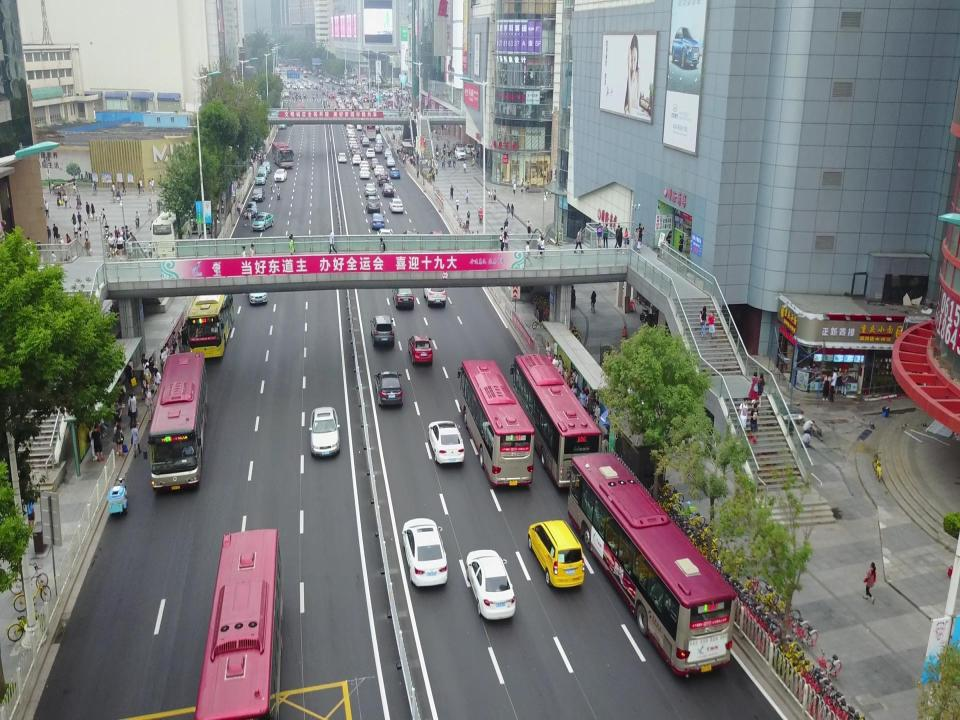bus: (568, 455, 736, 676), (195, 526, 280, 720), (510, 354, 600, 492), (457, 358, 535, 492), (146, 352, 206, 492), (185, 273, 231, 359), (270, 142, 294, 170), (361, 121, 376, 141)
car: (528, 521, 586, 588), (464, 548, 516, 621), (402, 518, 450, 589), (309, 406, 341, 460), (428, 419, 466, 464), (373, 369, 405, 409), (369, 313, 395, 351), (424, 275, 448, 309), (246, 269, 268, 306), (408, 334, 432, 366), (392, 283, 416, 311), (252, 211, 274, 233), (364, 196, 380, 214), (388, 197, 404, 214), (369, 213, 385, 230), (246, 200, 258, 219), (252, 187, 266, 203), (376, 172, 390, 187), (273, 168, 287, 182), (381, 183, 395, 197), (454, 147, 467, 160), (452, 142, 464, 156), (254, 172, 266, 185), (262, 160, 272, 175), (389, 168, 401, 180), (364, 184, 376, 196), (258, 165, 268, 179), (359, 168, 370, 180), (358, 160, 370, 171), (374, 164, 384, 176), (370, 158, 380, 170), (385, 158, 396, 168), (337, 152, 347, 163), (352, 155, 362, 165), (365, 148, 375, 158), (373, 144, 383, 154), (348, 138, 357, 148), (385, 148, 393, 159), (466, 143, 474, 154), (353, 151, 363, 159), (352, 145, 360, 155), (350, 142, 358, 151), (362, 138, 370, 146), (348, 132, 355, 141), (376, 139, 383, 147), (347, 126, 355, 133), (376, 133, 382, 142), (356, 122, 362, 130)
